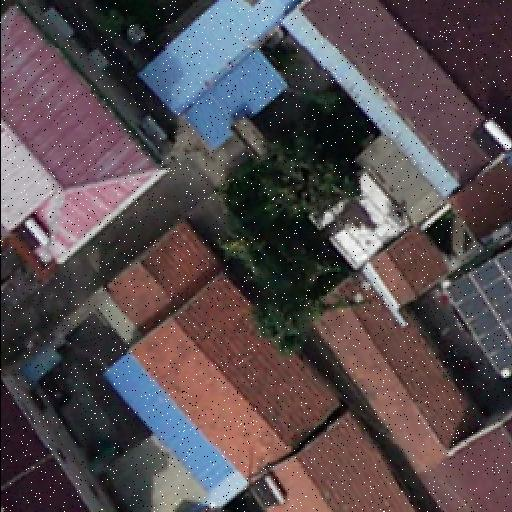solar-panel: (434, 244, 510, 394)
